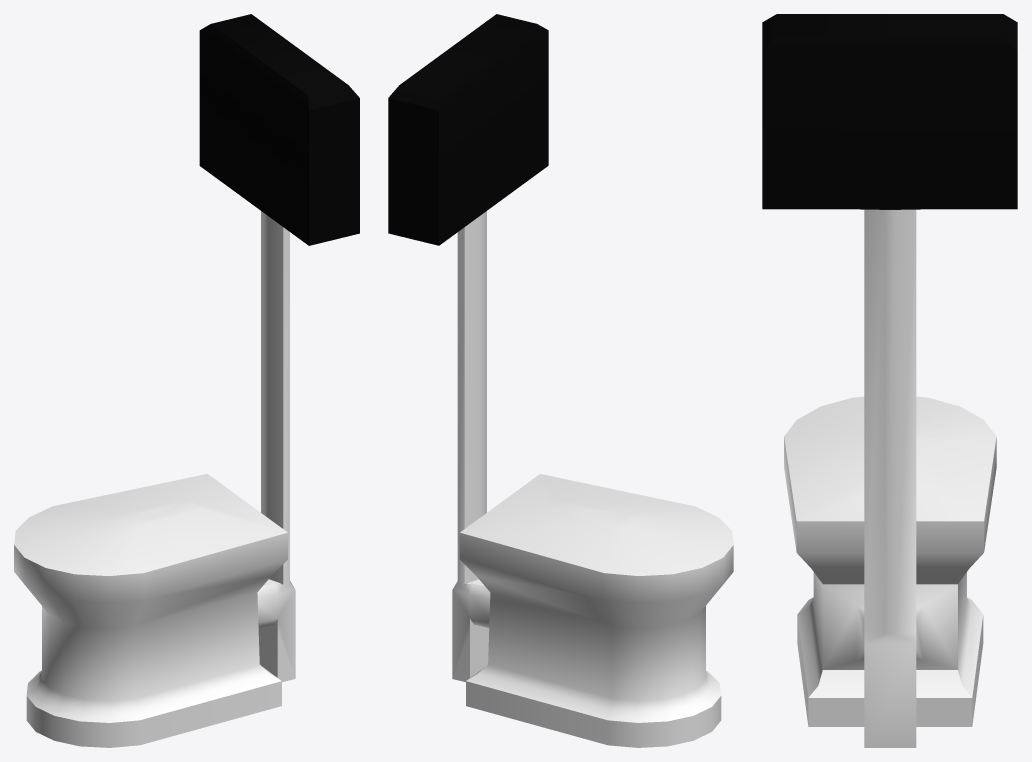
The model's file is toilet.FBX.
3 renders of one model, left to right at view 1: azimuth 30°, elevation 25°; view 2: azimuth 150°, elevation 25°; view 3: azimuth 270°, elevation 25°, orthographic. The views are drawn at different scales.
Visible parts, largest first — view 1: toilet; view 2: toilet; view 3: toilet.
Boxes of the visible parts, bbox=[...] form: toilet: bbox=[14, 14, 359, 747]; toilet: bbox=[388, 14, 733, 747]; toilet: bbox=[762, 14, 1017, 747].
Size of the model in its own units: 36.77 by 77.4 by 24.85.
1 material, 1 textured.
